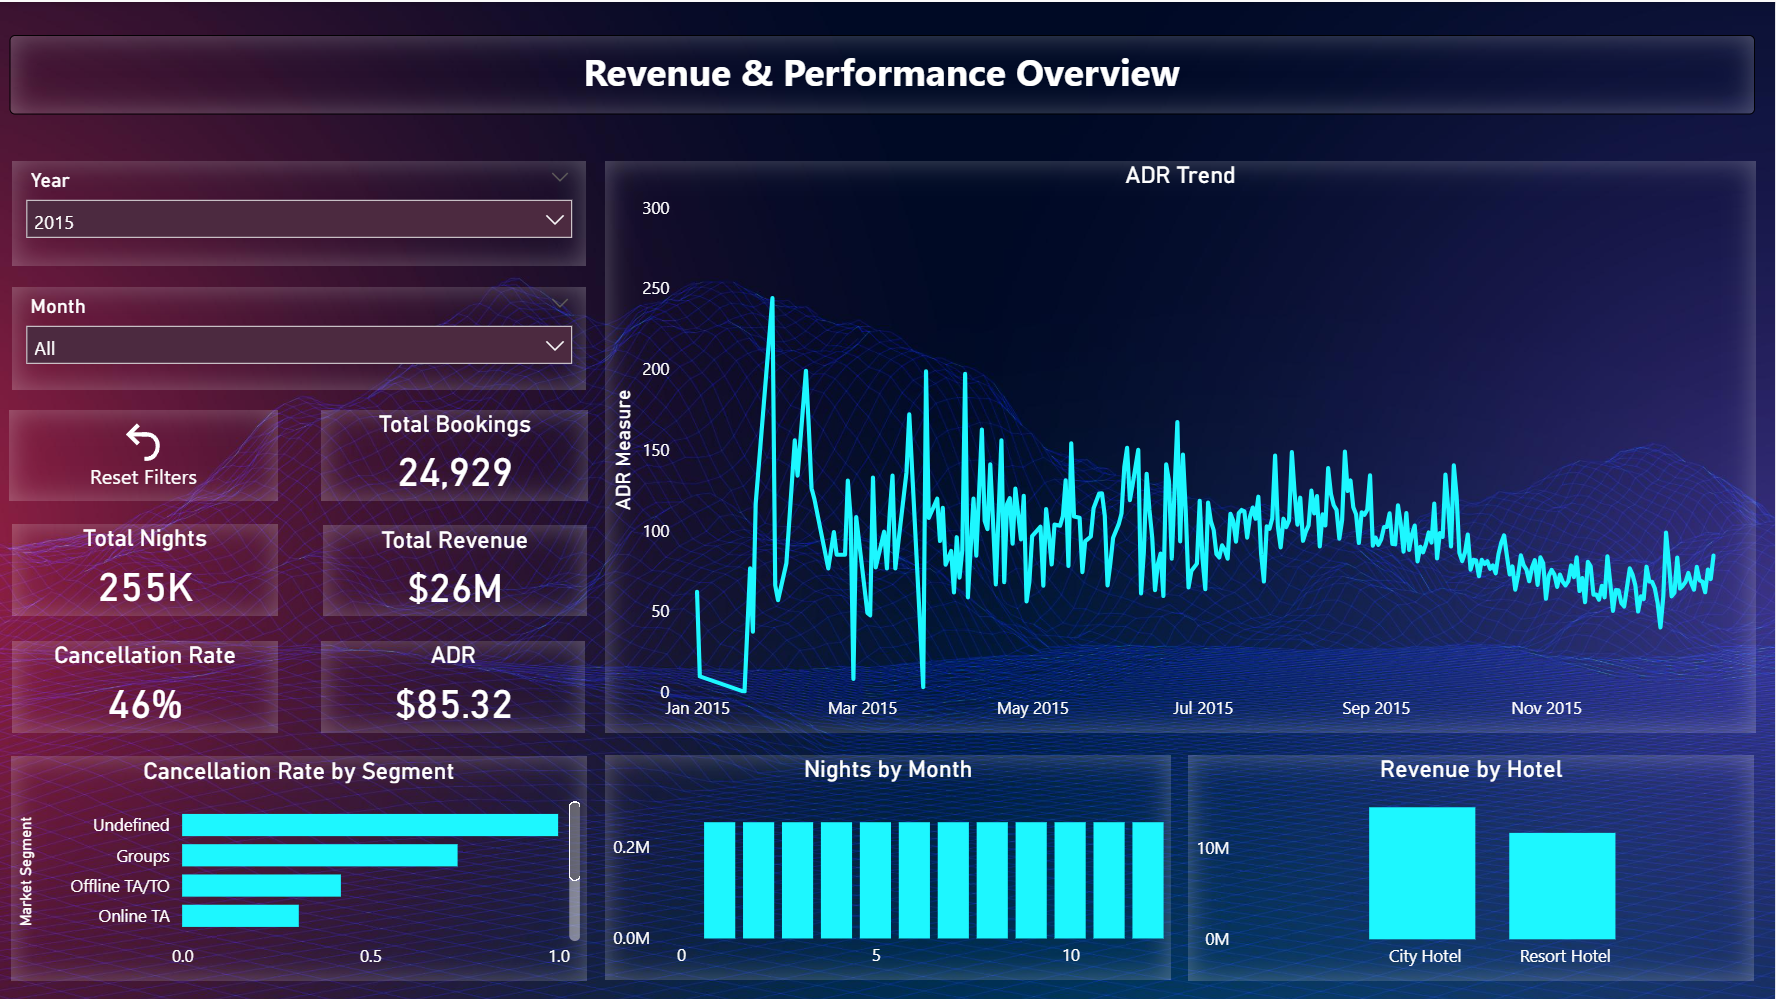

The page's visual inventory and layout, read from the dashboard file:
{"tool":"powerbi","page":{"name":"Revenue overview","canvas":[1280,720],"ordinal":0},"visuals":[{"type":"card","title":"Total Revenue","fields":{"Values":["Fact_Bookings.Total Revenue Measure"]},"box":[233.3,377.8,190,65.6],"z":0},{"type":"card","title":"ADR","fields":{"Values":["Fact_Bookings.ADR Measure"]},"box":[232.2,460,190,66.7],"z":1000},{"type":"card","title":"Total Nights","fields":{"Values":["Fact_Bookings.Total Nights Measure"]},"box":[10,376.7,191.1,66.7],"z":2000},{"type":"card","title":"Total Bookings","fields":{"Values":["Fact_Bookings.Total Bookings Measure"]},"box":[232.2,294.4,192.2,65.6],"z":3000},{"type":"card","title":"Cancellation Rate","fields":{"Values":["Fact_Bookings.Cancellation Rate Measure"]},"box":[10,460,191.1,66.7],"z":4000},{"type":"lineChart","title":"ADR Trend","fields":{"Y":["Fact_Bookings.ADR Measure"],"Category":["Date.Date"]},"box":[436.4,114.6,829.6,412.3],"z":5000},{"type":"slicer","fields":{"Values":["Date.Year"]},"box":[9.5,114.5,413.5,75.3],"z":6000},{"type":"clusteredColumnChart","title":"Revenue by Hotel","fields":{"Category":["vw_Revenue.hotel"],"Y":["Fact_Bookings.Total Revenue Measure"]},"box":[857.5,542.5,407.5,162.5],"z":7000},{"type":"columnChart","title":"Nights by Month","fields":{"Y":["Fact_Bookings.Total Nights Measure"],"Category":["Date.Month Number"]},"box":[436.4,543,408.3,161.9],"z":8000},{"type":"barChart","title":"Cancellation Rate by Segment","fields":{"Category":["Fact_Bookings.market_segment"],"Y":["Fact_Bookings.Cancellation Rate Measure"]},"box":[8.3,543.3,415,161.7],"z":9000},{"type":"slicer","fields":{"Values":["Date.Month"]},"box":[9.5,205.7,413.5,74.2],"z":10000},{"type":"textbox","box":[8,24.1,1258,57.3],"z":11000},{"type":"actionButton","box":[7.8,294.4,193.3,65.6],"z":12000}]}

Visuals, with their boxes in screenshot pixels (x1, y1, x2, y2), scaled from the page's 1280x720 canvas onto the 1776x999 screenshot:
"Total Revenue" card: [324, 524, 587, 615]
"ADR" card: [322, 638, 586, 731]
"Total Nights" card: [14, 523, 279, 615]
"Total Bookings" card: [322, 408, 589, 500]
"Cancellation Rate" card: [14, 638, 279, 731]
"ADR Trend" lineChart: [606, 159, 1757, 731]
slicer - Date.Year: [13, 159, 587, 263]
"Revenue by Hotel" clusteredColumnChart: [1190, 753, 1755, 978]
"Nights by Month" columnChart: [606, 753, 1172, 978]
"Cancellation Rate by Segment" barChart: [12, 754, 587, 978]
slicer - Date.Month: [13, 285, 587, 388]
textbox: [11, 33, 1757, 113]
actionButton: [11, 408, 279, 500]
